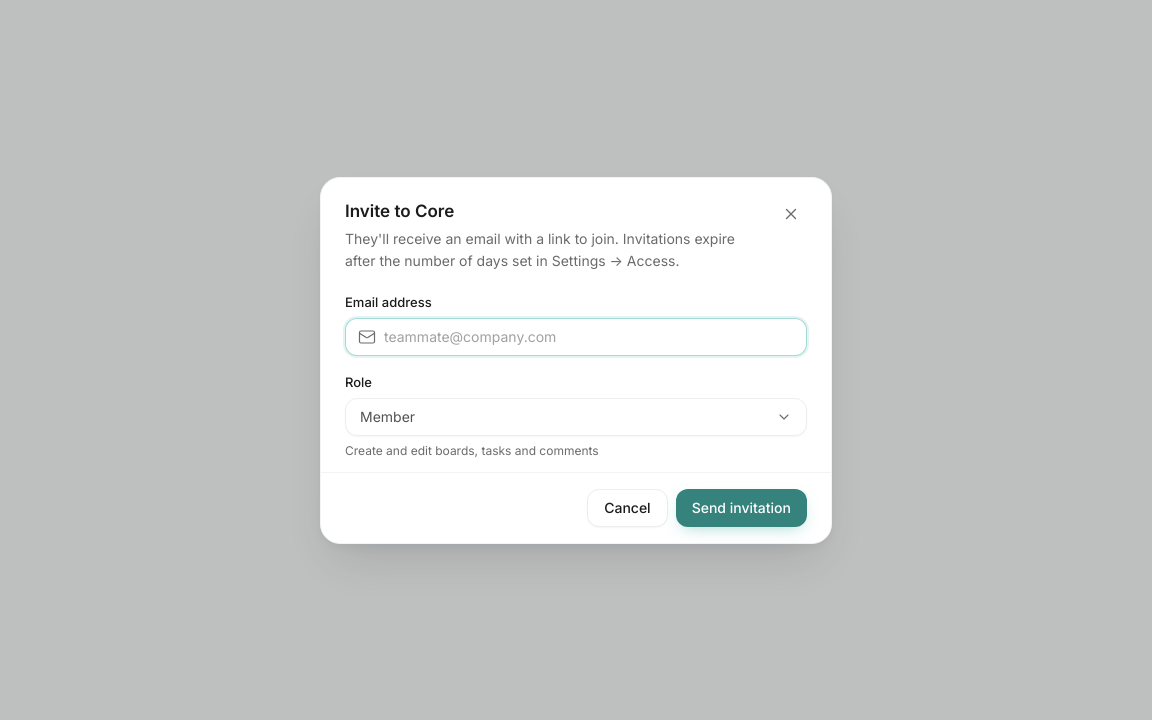
Test: InviteDialog › shows non-field server errors as an alert
Type "olena@example.com" into the field labelled "Email address".
click(589, 336); type("olena@example.com")  # box left=384, top=318, right=794, bottom=354
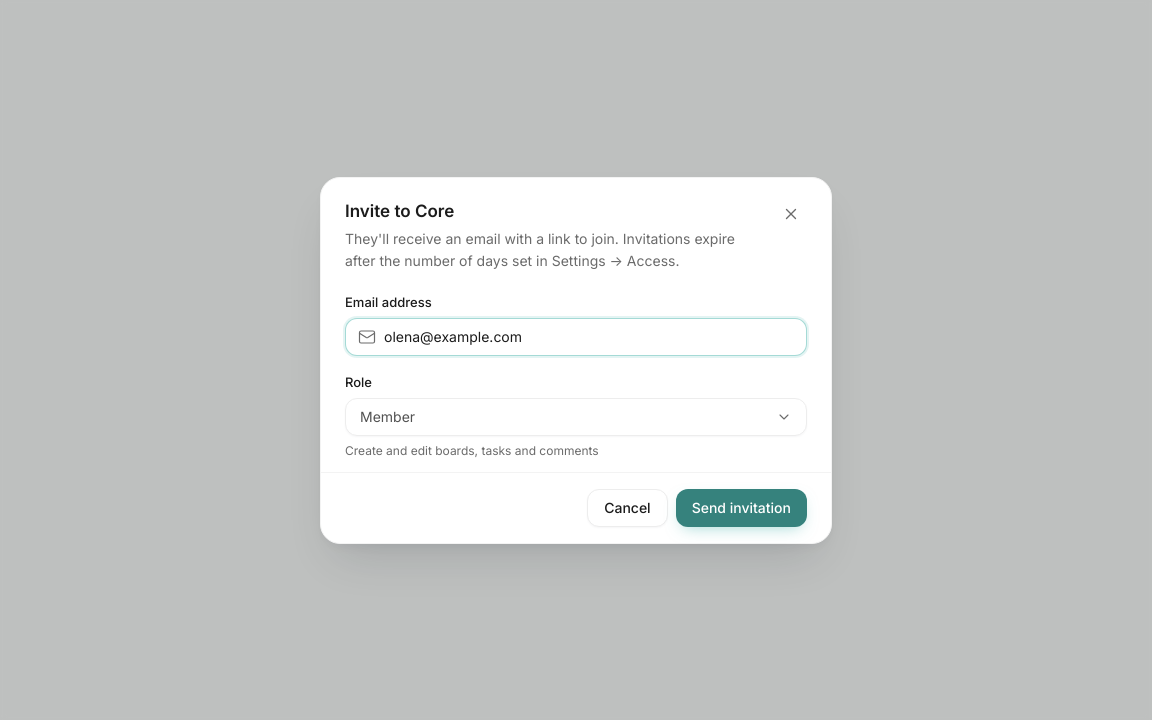
Click the button "Send invitation".
click(741, 508)  # box left=676, top=488, right=807, bottom=526
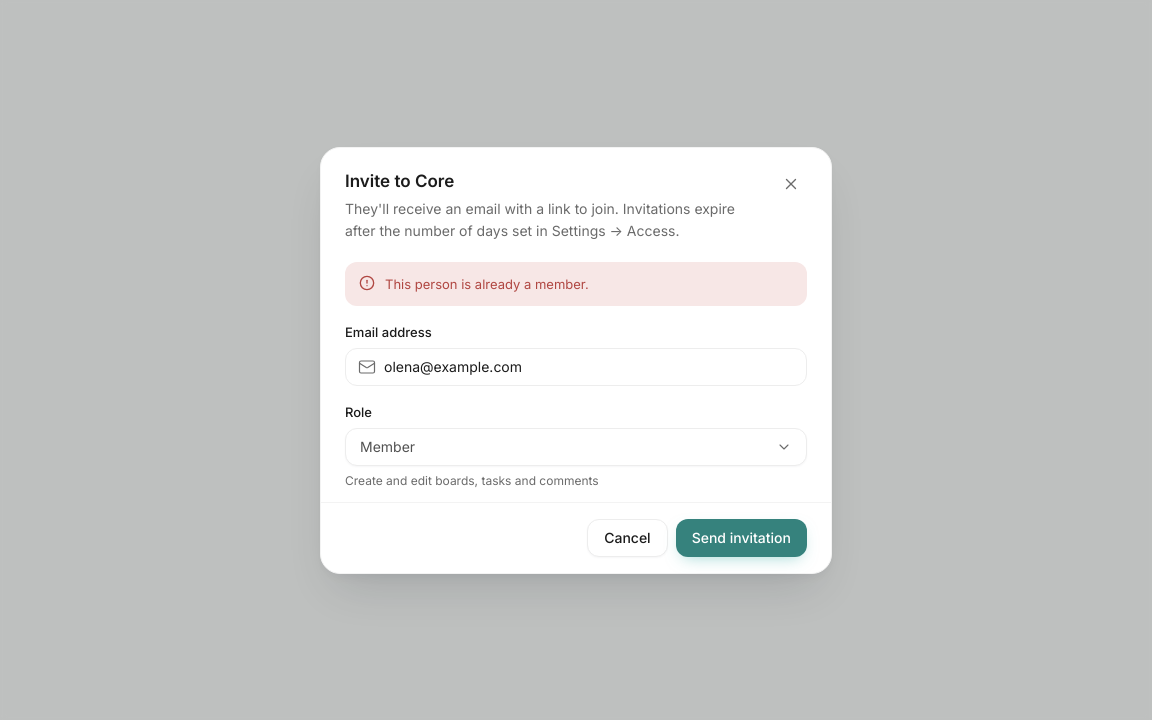
Expected: the message reads "This person is already a member.", left=385, top=276, right=589, bottom=292
